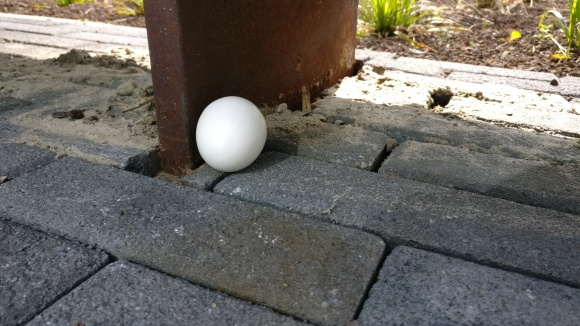egg: (194, 95, 267, 173)
